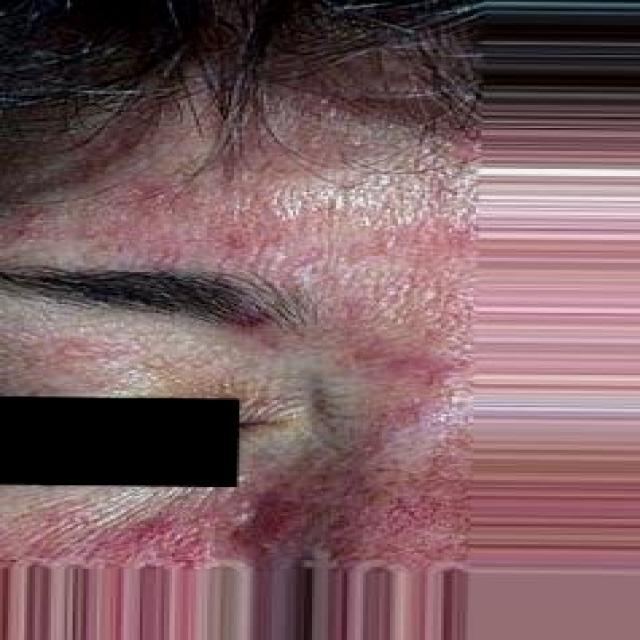Rosacea: (37, 333, 471, 568), (27, 100, 471, 320)
